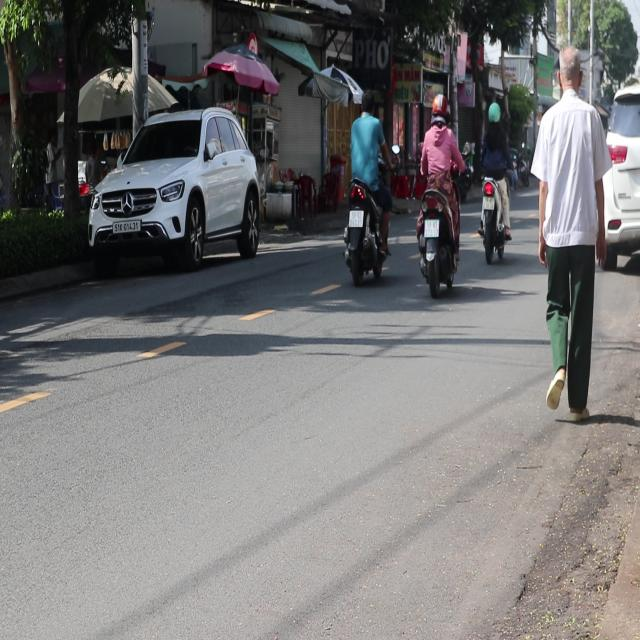helmet: (429, 93, 448, 126)
licenseplate: (413, 92, 464, 296), (342, 85, 392, 285)
motorcyclist: (358, 87, 374, 117)
nohelmet: (349, 210, 364, 228), (425, 220, 439, 238)
